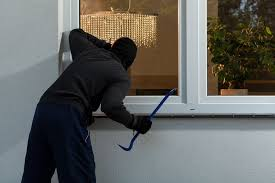crowbar: (117, 86, 179, 153)
